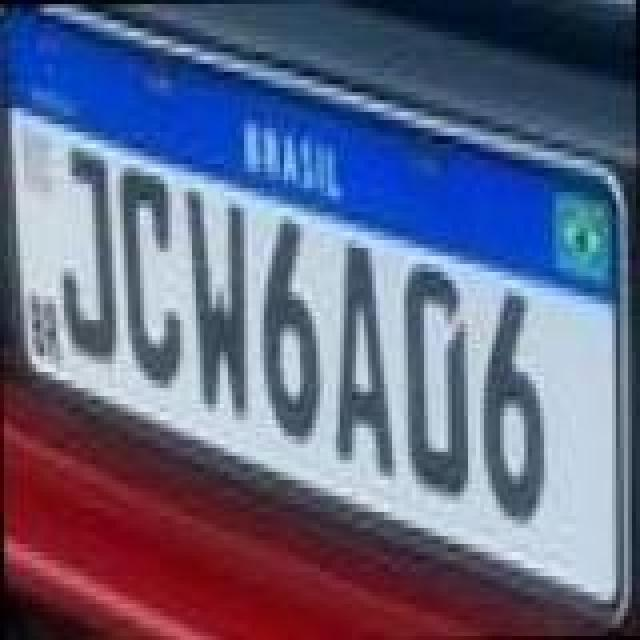6: (478, 288, 546, 528), (256, 214, 320, 442)
A: (328, 242, 392, 478)
C: (120, 160, 184, 392)
D: (402, 262, 470, 498)
J: (58, 146, 118, 366)
W: (184, 186, 248, 422)
